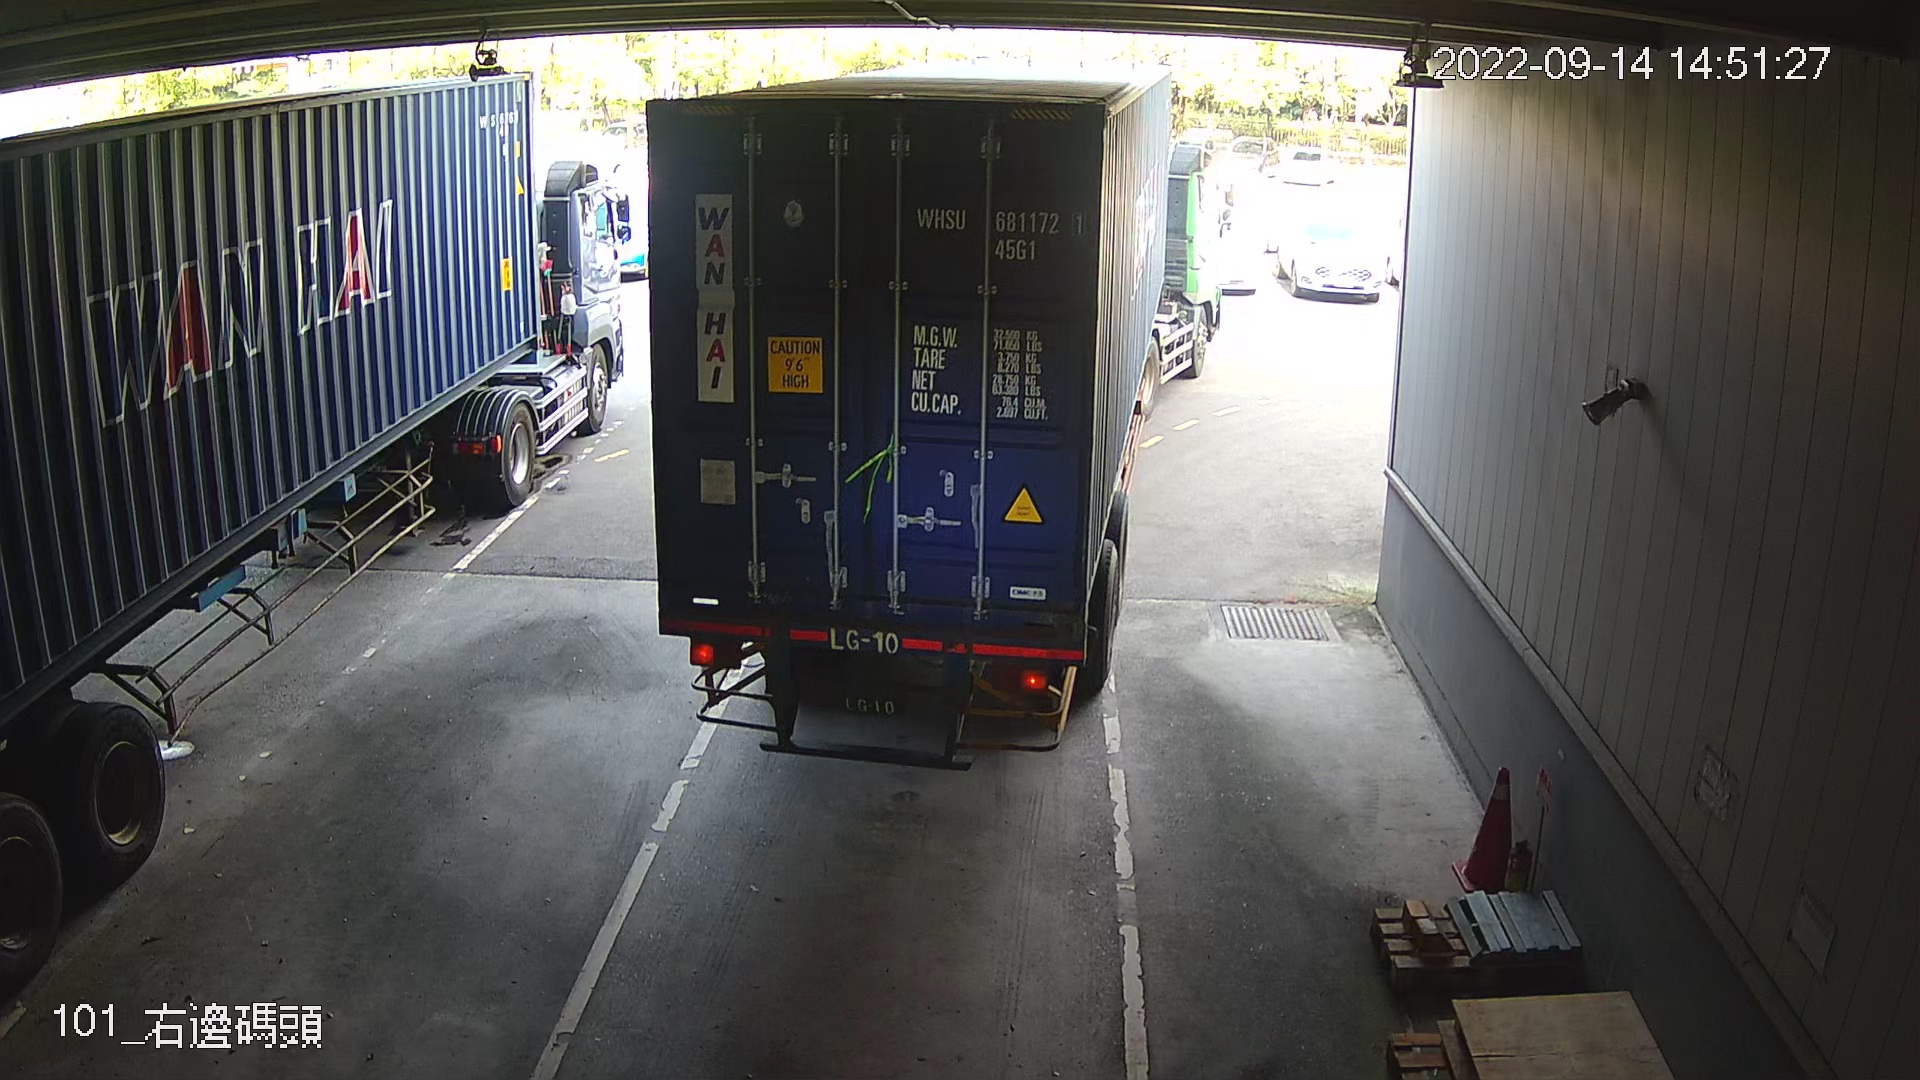container: (910, 196, 1089, 269)
